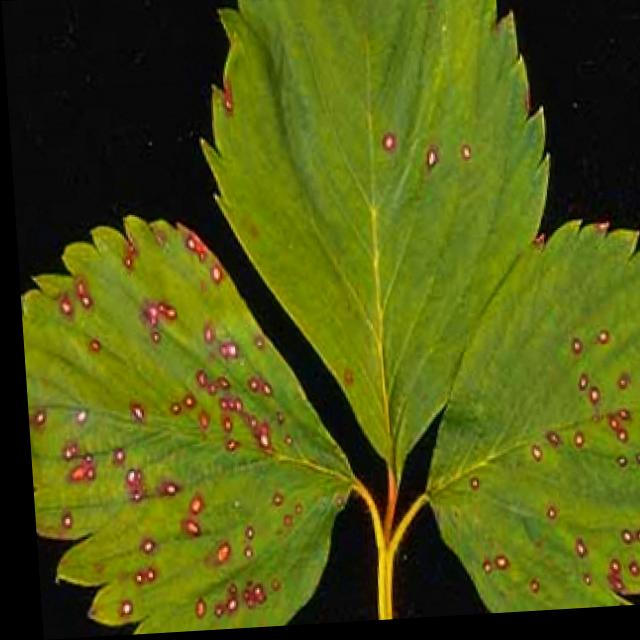Leaf Spot: (195, 0, 548, 494), (15, 213, 347, 636), (417, 225, 640, 619)
